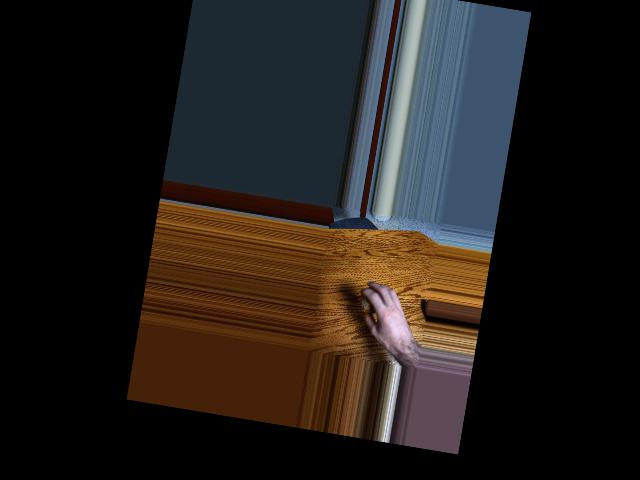onion: (358, 285, 383, 316)
